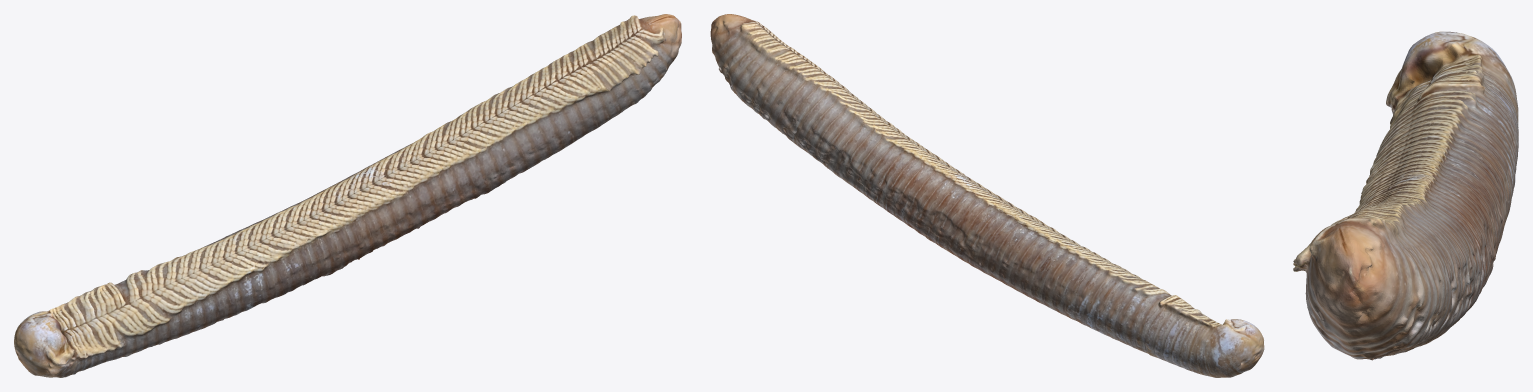
File: MZUR3D-008.glb
3 renders of one model, left to right at view 1: azimuth 30°, elevation 25°; view 2: azimuth 150°, elevation 25°; view 3: azimuth 270°, elevation 25°, orthographic. The views are drawn at different scales.
Visible parts, largest first — view 1: MZUR3D-008; view 2: MZUR3D-008; view 3: MZUR3D-008.
Boxes of the visible parts, bbox=[...] form: MZUR3D-008: bbox=[14, 14, 681, 377]; MZUR3D-008: bbox=[710, 14, 1264, 377]; MZUR3D-008: bbox=[1293, 31, 1518, 360].
Size of the model in its own units: 1.2 by 0.4286 by 0.2046.
Materials: 1 (1 with a texture image).
